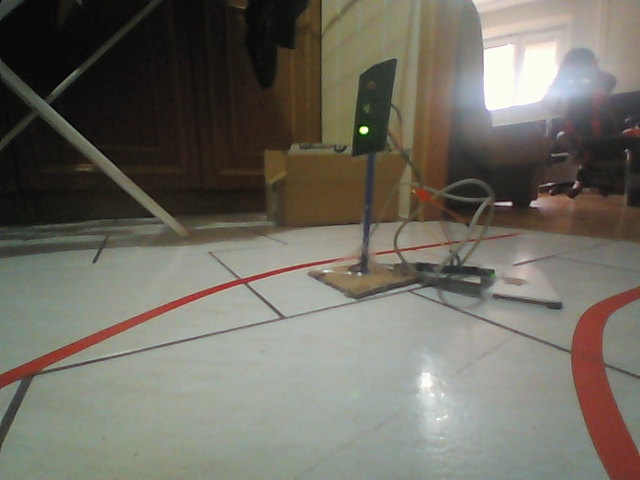green_sign: (349, 57, 401, 155)
